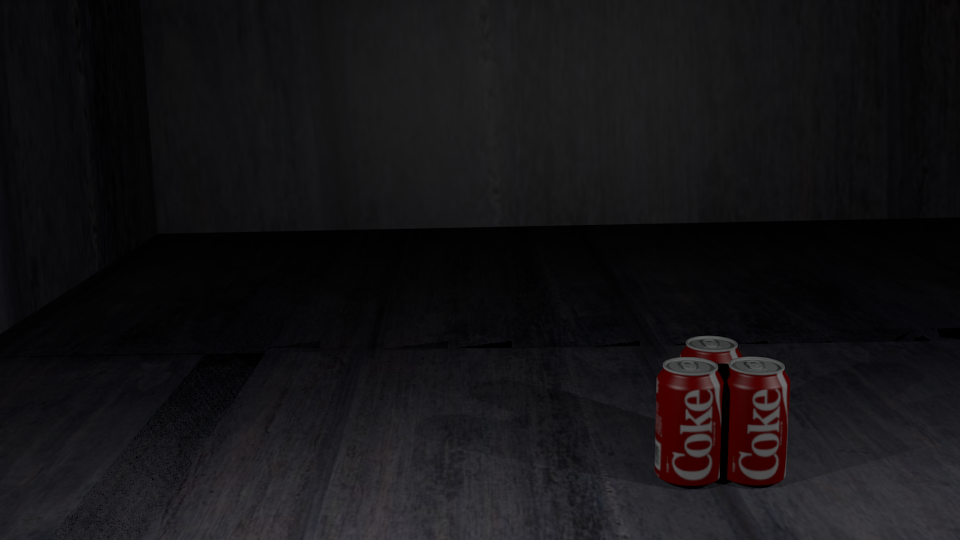cola_can: (656, 357, 723, 482), (722, 357, 789, 481), (681, 336, 742, 454)
